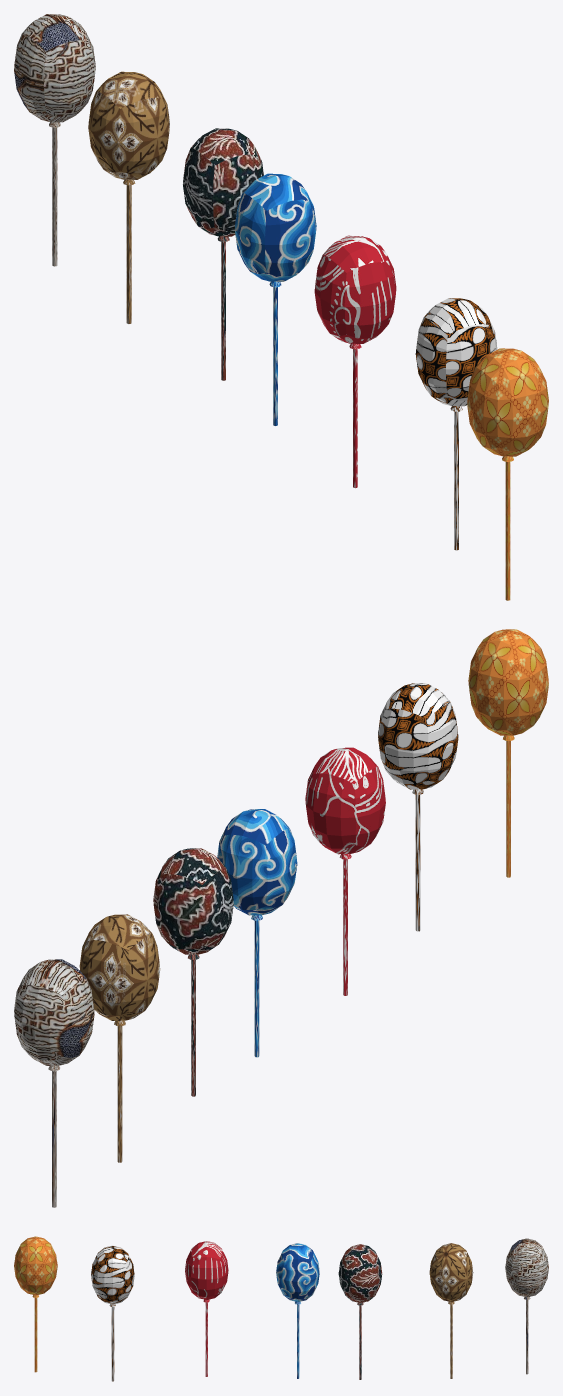
Rendered from batikBallon.fbx.
3 renders of one model, top to bottom at view 1: azimuth 30°, elevation 25°; view 2: azimuth 150°, elevation 25°; view 3: azimuth 270°, elevation 25°, orthographic. The views are drawn at different scales.
Parts seen in each view (by area): view 1: Cylinder.006, Cylinder.008, Cylinder.005, Cylinder.001, Cylinder.007, Cylinder.003, Cylinder.004; view 2: Cylinder.003, Cylinder.006, Cylinder.007, Cylinder.008, Cylinder.004, Cylinder.005, Cylinder.001; view 3: Cylinder.003, Cylinder.008, Cylinder.007, Cylinder.006, Cylinder.005, Cylinder.004, Cylinder.001.
Boxes of the visible parts, box(x1,y1,x2,y2) form: Cylinder.006: box(14, 14, 95, 266); Cylinder.008: box(467, 348, 548, 600); Cylinder.005: box(88, 71, 169, 323); Cylinder.001: box(234, 173, 316, 425); Cylinder.007: box(314, 235, 396, 488); Cylinder.003: box(415, 298, 497, 550); Cylinder.004: box(183, 128, 263, 380); Cylinder.003: box(378, 683, 458, 931); Cylinder.006: box(14, 959, 94, 1207); Cylinder.007: box(305, 747, 385, 995); Cylinder.008: box(468, 629, 548, 877); Cylinder.004: box(153, 848, 233, 1096); Cylinder.005: box(79, 914, 160, 1162); Cylinder.001: box(217, 809, 297, 1057); Cylinder.003: box(91, 1245, 134, 1381); Cylinder.008: box(14, 1236, 57, 1372); Cylinder.007: box(185, 1241, 228, 1376); Cylinder.006: box(505, 1238, 548, 1374); Cylinder.005: box(429, 1243, 473, 1378); Cylinder.004: box(338, 1244, 382, 1379); Cylinder.001: box(276, 1243, 319, 1378).
Size of the model in its own units: 53.36 by 145 by 507.
7 materials, 7 textured.
